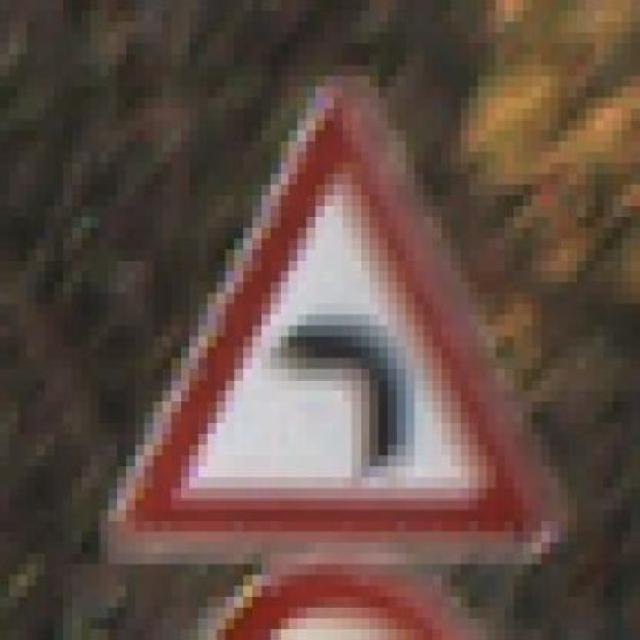Dangerous Left Curve Ahead: (108, 54, 577, 575)
